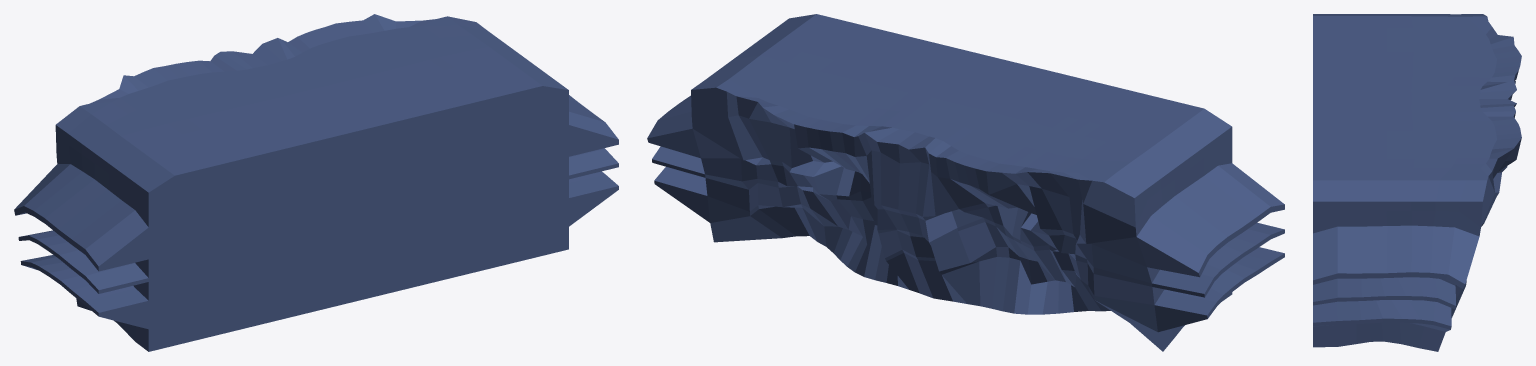
The model's file is hallwayedgecrack_baked.fbx.
3 views of the same model, side by side, from view 1: azimuth 30°, elevation 25°; view 2: azimuth 150°, elevation 25°; view 3: azimuth 270°, elevation 25° (orthographic). The views are drawn at different scales.
Visible parts, largest first — view 1: HallFloorPlatform_BRK; view 2: HallFloorPlatform_BRK; view 3: HallFloorPlatform_BRK.
Part boxes in pixels (x1,y1,x2,y2): HallFloorPlatform_BRK: [14, 14, 618, 351]; HallFloorPlatform_BRK: [647, 14, 1284, 351]; HallFloorPlatform_BRK: [1313, 14, 1521, 351].
Bounding box in the file's own units: 646 × 211 × 244.
